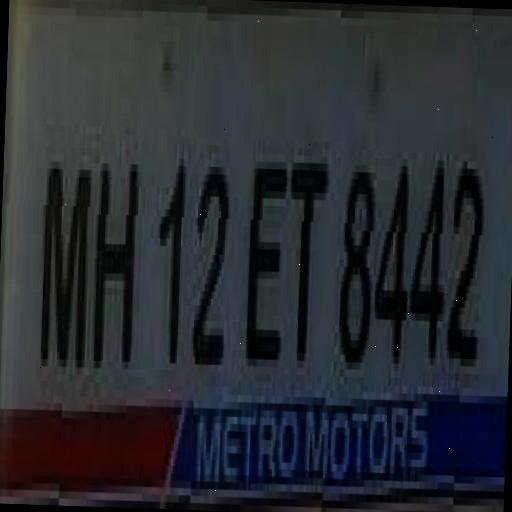number plate: (0, 3, 505, 503)
